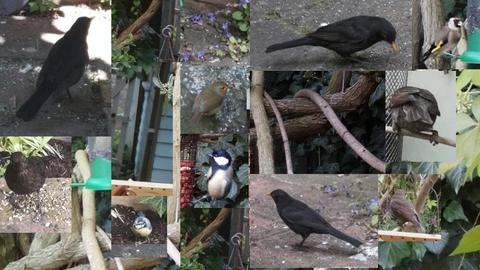blackbird: (15, 15, 96, 122), (265, 15, 397, 67), (265, 189, 363, 253), (4, 152, 56, 218)
blue tit: (130, 211, 152, 244)
goldfinch: (419, 15, 465, 64)
great tit: (187, 149, 234, 207)
robin: (189, 81, 232, 127)
starling: (390, 86, 441, 147), (390, 189, 426, 233)
